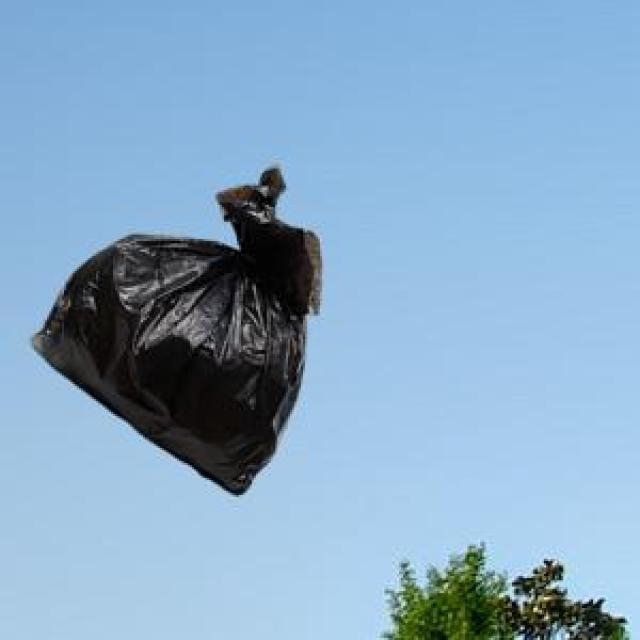miscellaneous trash: (26, 162, 318, 491)
